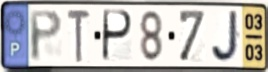7: (178, 9, 208, 65)
8: (138, 9, 164, 64)
J: (209, 9, 242, 64)
P: (28, 8, 64, 64), (100, 8, 134, 64)
T: (65, 8, 92, 65)
